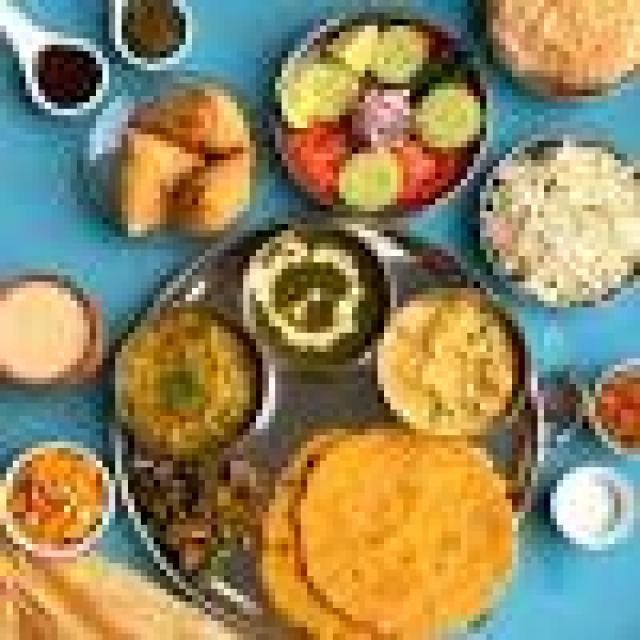dal: (113, 306, 261, 460), (241, 225, 387, 379), (3, 282, 103, 387)
papad: (286, 433, 520, 628)
pickle: (0, 438, 118, 551), (21, 43, 112, 113)
raita: (539, 458, 638, 555)
rice: (476, 128, 640, 304)
sweet: (97, 79, 269, 237), (278, 119, 361, 199), (590, 366, 639, 449)
veg-fry: (474, 0, 635, 105)
